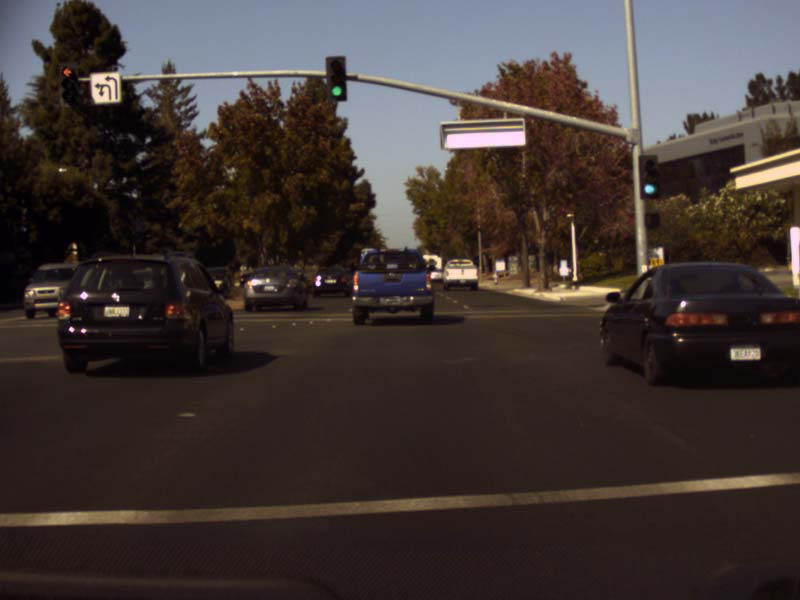Green: (325, 56, 346, 100), (639, 155, 660, 197)
Red: (57, 61, 78, 107)
